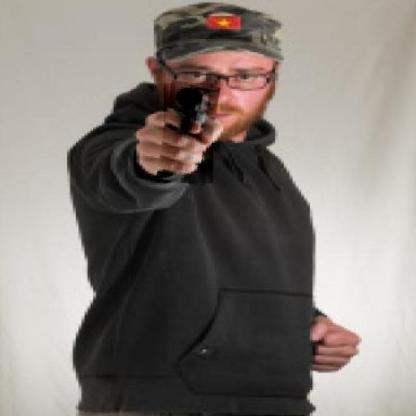handgun: (160, 81, 217, 185)
